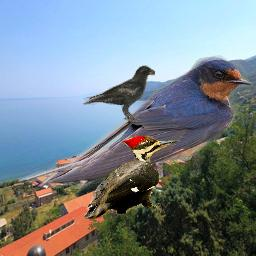Crow: (83, 65, 155, 122)
Swallow: (18, 55, 253, 189)
Woodpecker: (84, 136, 179, 219)
